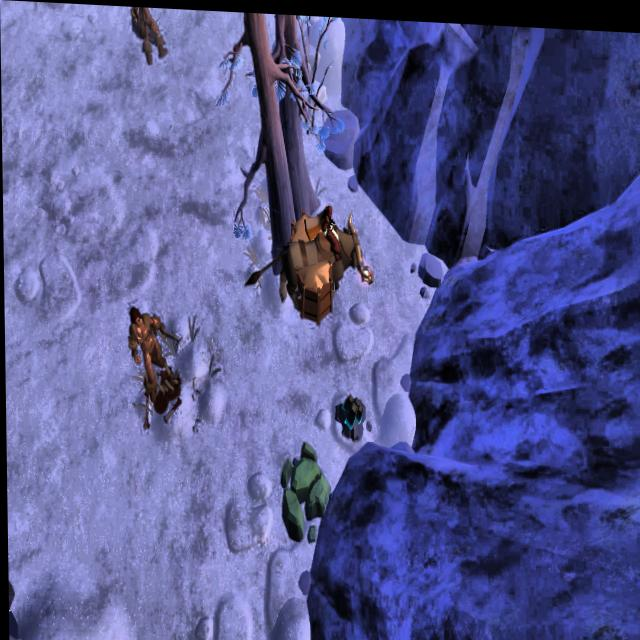enemy_factionKeeper: (129, 296, 178, 406), (128, 5, 172, 67)
ore_t4: (340, 388, 364, 425)
rock_t3: (278, 434, 333, 545)
